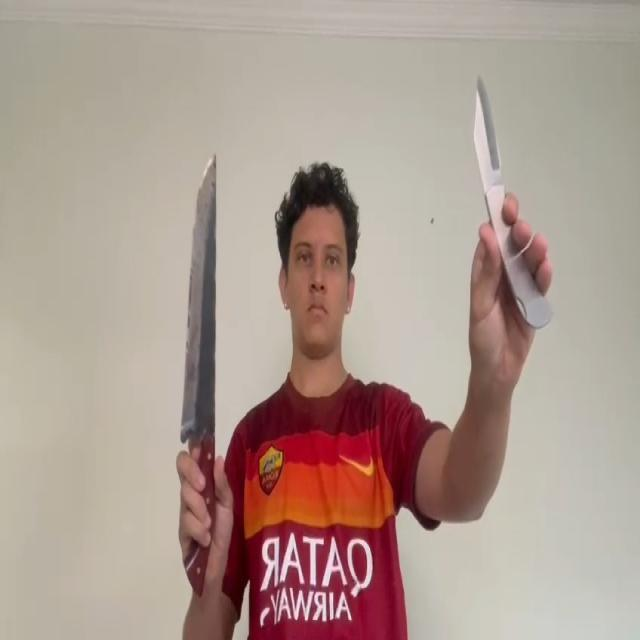knife: (180, 152, 220, 446), (473, 69, 501, 184)
